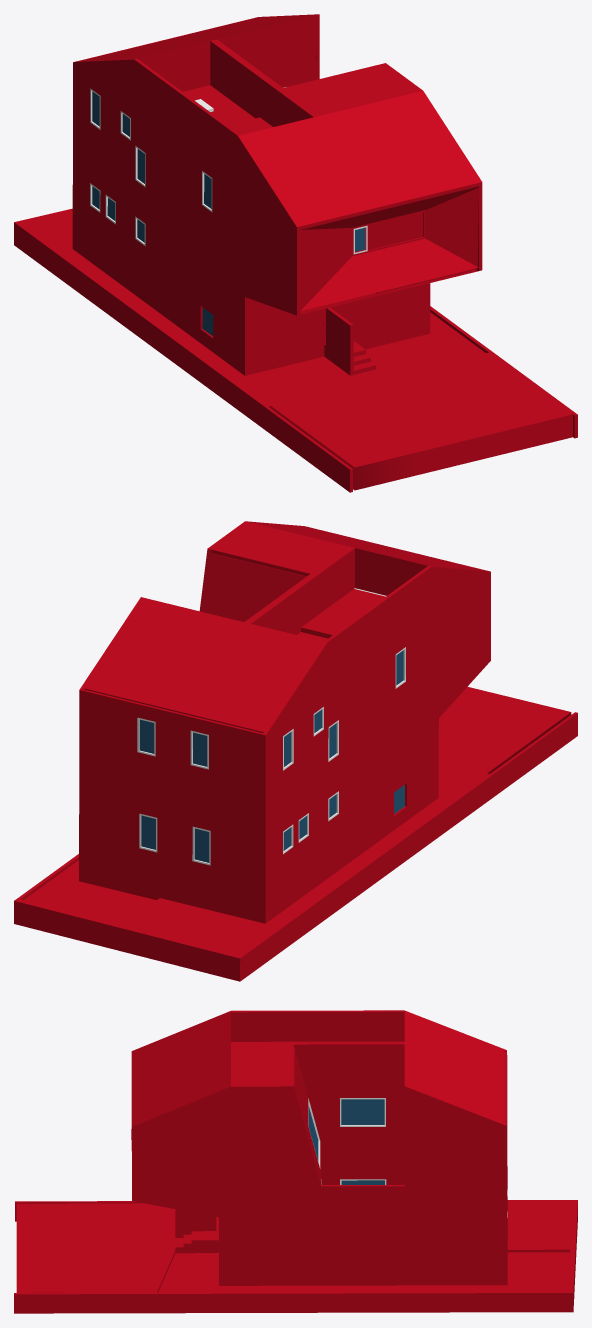
Rendered from asset.glb.
3 views of the same model, one above another, from view 1: azimuth 30°, elevation 25°; view 2: azimuth 150°, elevation 25°; view 3: azimuth 270°, elevation 25° (orthographic). The views are drawn at different scales.
Parts seen in each view (by area): view 1: 3D_FACADE_BLACK, 3D_FIRST FLOOR, 3D_FACADE_REFLECTIVE, 3D_SURROUNDING CONTEXT, 3D_WALL, 3D_WINDOW FRAMES, 3d_Glass, 3D_TURF, 3D_FACADE_REFLECTIVE.001, Windows frames, 3D_FLOOR, 3D_FACADE_WHITE; view 2: 3D_FACADE_BLACK, 3D_FIRST FLOOR, 3D_SURROUNDING CONTEXT, 3D_FACADE_WHITE, 3D_TURF, 3d_Glass, 3D_WINDOW FRAMES, Windows frames, 3D_FLOOR, 3D_WALL; view 3: 3D_FACADE_BLACK, 3D_FIRST FLOOR, 3D_SURROUNDING CONTEXT, 3D_FACADE_WHITE, 3D_TURF, 3d_Glass, Windows frames.
Boxes of the visible parts, bbox=[...] form: 3D_FACADE_BLACK: bbox=[72, 14, 482, 363]; 3D_FIRST FLOOR: bbox=[31, 212, 572, 490]; 3D_FACADE_REFLECTIVE: bbox=[300, 186, 478, 314]; 3D_SURROUNDING CONTEXT: bbox=[14, 208, 577, 492]; 3D_WALL: bbox=[141, 18, 316, 91]; 3D_WINDOW FRAMES: bbox=[210, 44, 309, 126]; 3d_Glass: bbox=[92, 91, 423, 251]; 3D_TURF: bbox=[366, 312, 485, 369]; 3D_FACADE_REFLECTIVE.001: bbox=[425, 187, 478, 266]; Windows frames: bbox=[90, 87, 425, 336]; 3D_FLOOR: bbox=[183, 85, 476, 293]; 3D_FACADE_WHITE: bbox=[210, 39, 282, 91]; 3D_FACADE_BLACK: bbox=[79, 521, 490, 911]; 3D_FIRST FLOOR: bbox=[79, 686, 571, 950]; 3D_SURROUNDING CONTEXT: bbox=[14, 712, 577, 981]; 3D_FACADE_WHITE: bbox=[203, 553, 317, 624]; 3D_TURF: bbox=[24, 860, 156, 924]; 3d_Glass: bbox=[139, 650, 403, 862]; 3D_WINDOW FRAMES: bbox=[254, 552, 354, 634]; Windows frames: bbox=[137, 647, 405, 865]; 3D_FLOOR: bbox=[297, 588, 386, 641]; 3D_WALL: bbox=[355, 551, 424, 595]; 3D_FACADE_BLACK: bbox=[131, 1010, 507, 1272]; 3D_FIRST FLOOR: bbox=[16, 1201, 571, 1292]; 3D_SURROUNDING CONTEXT: bbox=[14, 1200, 577, 1313]; 3D_FACADE_WHITE: bbox=[293, 1041, 404, 1184]; 3D_TURF: bbox=[158, 1252, 569, 1292]; 3d_Glass: bbox=[308, 1099, 384, 1184]; Windows frames: bbox=[308, 1098, 507, 1217].
Size of the model in its own units: 8.07 by 8.79 by 20.69.
